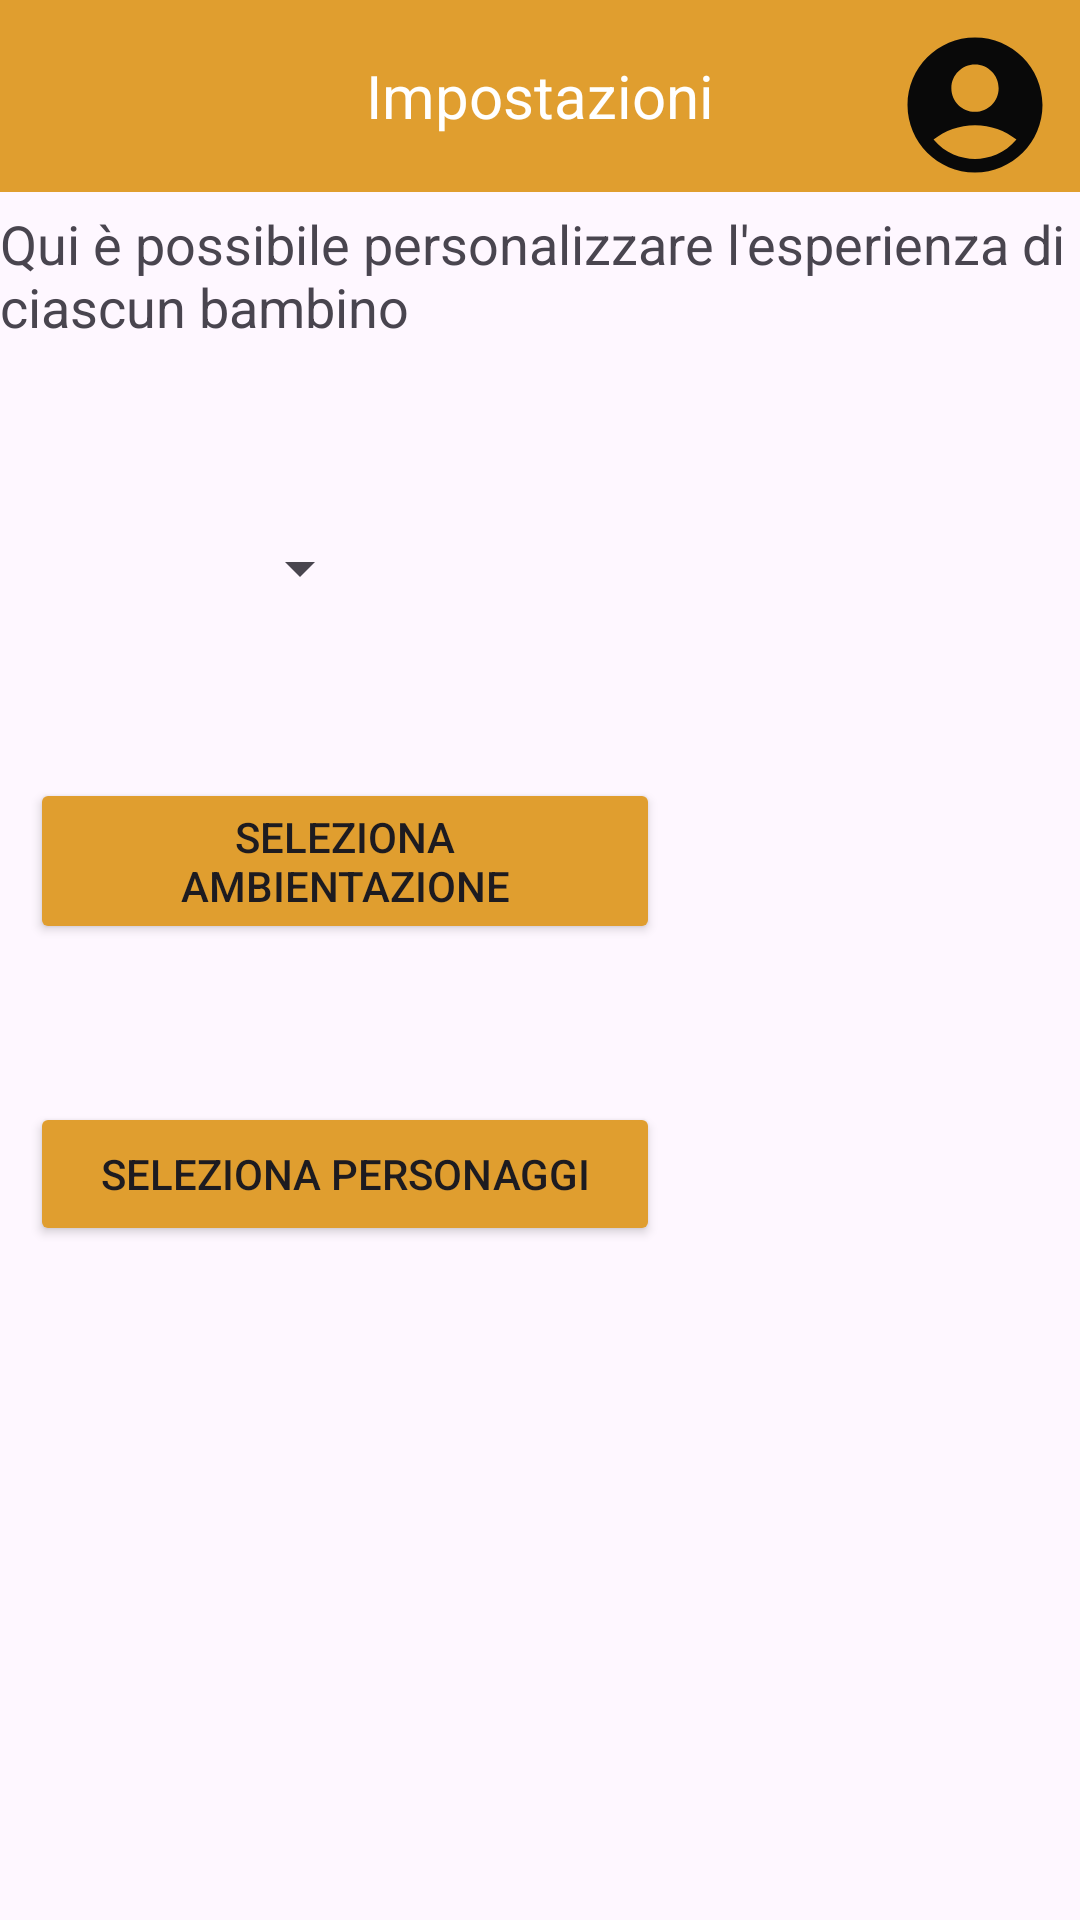

Named icons in this screenshot (1080px x 1920px) and their bounding boxes, detection(x1, y1, x2, y2):
account circle: detection(907, 37, 1043, 173)
